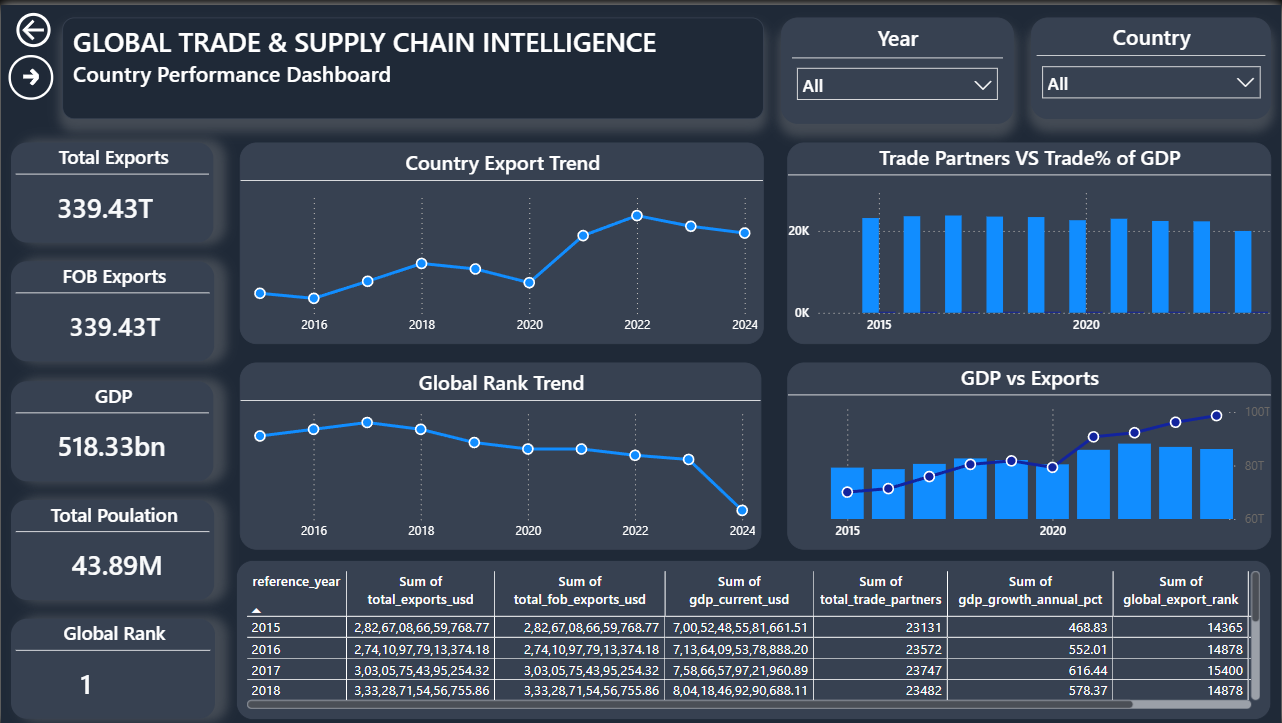

This screenshot's page, from the dashboard's own definition file:
{"tool":"powerbi","page":{"name":"Country Performance Dashboard","canvas":[1280,720],"ordinal":2},"visuals":[{"type":"group","id":"g1","title":"Group 5","box":[10,2.7,1260,712.5],"z":0},{"type":"group","id":"g2","title":"Group 3","box":[10,2.7,1260,712],"z":0,"group":"g1"},{"type":"group","id":"g3","title":"Group 1","box":[10,2.7,1260,116.2],"z":0,"group":"g2"},{"type":"textbox","box":[61.2,12.7,701.2,101.2],"z":0,"group":"g3"},{"type":"actionButton","box":[7.5,50,45,45],"z":1000},{"type":"group","id":"g4","title":"Group 4","box":[235,137.7,1035,577.5],"z":1000,"group":"g1"},{"type":"group","id":"g5","title":"Group 2","box":[10,138.1,203.8,576.6],"z":1000,"group":"g2"},{"type":"cardVisual","title":"Total Exports","fields":{"Data":["DAX_Measures.CP_Total_Exports"]},"box":[10,138.1,202,100],"z":1000,"group":"g5"},{"type":"cardVisual","title":"Total Poulation","fields":{"Data":["DAX_Measures.CP_Population"]},"box":[10,495.6,203.2,100],"z":2000,"group":"g5"},{"type":"cardVisual","title":"GDP","fields":{"Data":["DAX_Measures.CP_GDP"]},"box":[10,376.4,202,100],"z":3000,"group":"g5"},{"type":"cardVisual","title":"Global Rank","fields":{"Data":["DAX_Measures.CP_Global_Rank"]},"box":[10,614.7,203.8,100],"z":4000,"group":"g5"},{"type":"cardVisual","title":"FOB Exports","fields":{"Data":["DAX_Measures.CP_FOB_Exports"]},"box":[10,257.3,203.2,100],"z":5000,"group":"g5"},{"type":"pivotTable","fields":{"Rows":["Country_Summary.reference_year"],"Values":["Sum(Country_Summary.total_exports_usd)","Sum(Country_Summary.total_fob_exports_usd)","Sum(Country_Summary.gdp_current_usd)","Sum(Country_Summary.total_trade_partners)","Sum(Country_Summary.gdp_growth_annual_pct)","Sum(Country_Summary.global_export_rank)","Sum(Country_Summary.trade_pct_of_gdp)"]},"box":[235,555.2,1035,160],"z":6000,"group":"g4"},{"type":"actionButton","title":"Back","box":[10,2.7,51.2,45],"z":7000,"group":"g3"},{"type":"lineChart","title":"Country Export Trend","fields":{"Category":["Country_Summary.reference_year"],"Y":["Sum(Country_Summary.total_exports_usd)"]},"box":[238.8,137.7,523.8,201.2],"z":7000,"group":"g4"},{"type":"lineClusteredColumnComboChart","title":"GDP vs Exports","fields":{"Category":["Country_Summary.reference_year"],"Y":["Sum(Country_Summary.total_exports_usd)"],"Y2":["Sum(Country_Summary.gdp_current_usd)"]},"box":[786.2,357.7,483.8,187.5],"z":8000,"group":"g4"},{"type":"slicer","title":"Country","fields":{"Values":["DimCountry.reporter_name"]},"box":[1030,12.7,240,101.2],"z":9000,"group":"g3"},{"type":"slicer","title":"Year","fields":{"Values":["DimYear.reference_year"]},"box":[780,12.7,232.5,106.2],"z":10000,"group":"g3"},{"type":"lineChart","title":"Global Rank Trend","fields":{"Category":["Country_Summary.reference_year"],"Y":["Sum(Country_Summary.global_export_rank)"]},"box":[238.8,357.7,521.2,187.5],"z":11000,"group":"g4"},{"type":"clusteredColumnChart","title":"Trade Partners VS Trade% of GDP","fields":{"Category":["Country_Summary.reference_year"],"Y":["Sum(Country_Summary.total_trade_partners)","Avg(Country_Summary.trade_pct_of_gdp)"]},"box":[786.2,137.7,483.8,201.2],"z":12000,"group":"g4"}]}

Visuals, with their boxes in screenshot pixels (x1, y1, x2, y2), scaled from the page's 1280x720 canvas onto the 1282x723 screenshot:
"Group 5" group: bbox(10, 3, 1272, 718)
"Group 3" group: bbox(10, 3, 1272, 718)
"Group 1" group: bbox(10, 3, 1272, 119)
textbox: bbox(61, 13, 764, 114)
actionButton: bbox(8, 50, 53, 95)
"Group 4" group: bbox(235, 138, 1272, 718)
"Group 2" group: bbox(10, 139, 214, 718)
"Total Exports" cardVisual: bbox(10, 139, 212, 239)
"Total Poulation" cardVisual: bbox(10, 498, 214, 598)
"GDP" cardVisual: bbox(10, 378, 212, 478)
"Global Rank" cardVisual: bbox(10, 617, 214, 718)
"FOB Exports" cardVisual: bbox(10, 258, 214, 359)
pivotTable - Country_Summary.reference_year x Sum(Country_Summary.total_exports_usd): bbox(235, 558, 1272, 718)
"Back" actionButton: bbox(10, 3, 61, 48)
"Country Export Trend" lineChart: bbox(239, 138, 764, 340)
"GDP vs Exports" lineClusteredColumnComboChart: bbox(787, 359, 1272, 547)
"Country" slicer: bbox(1032, 13, 1272, 114)
"Year" slicer: bbox(781, 13, 1014, 119)
"Global Rank Trend" lineChart: bbox(239, 359, 761, 547)
"Trade Partners VS Trade% of GDP" clusteredColumnChart: bbox(787, 138, 1272, 340)
